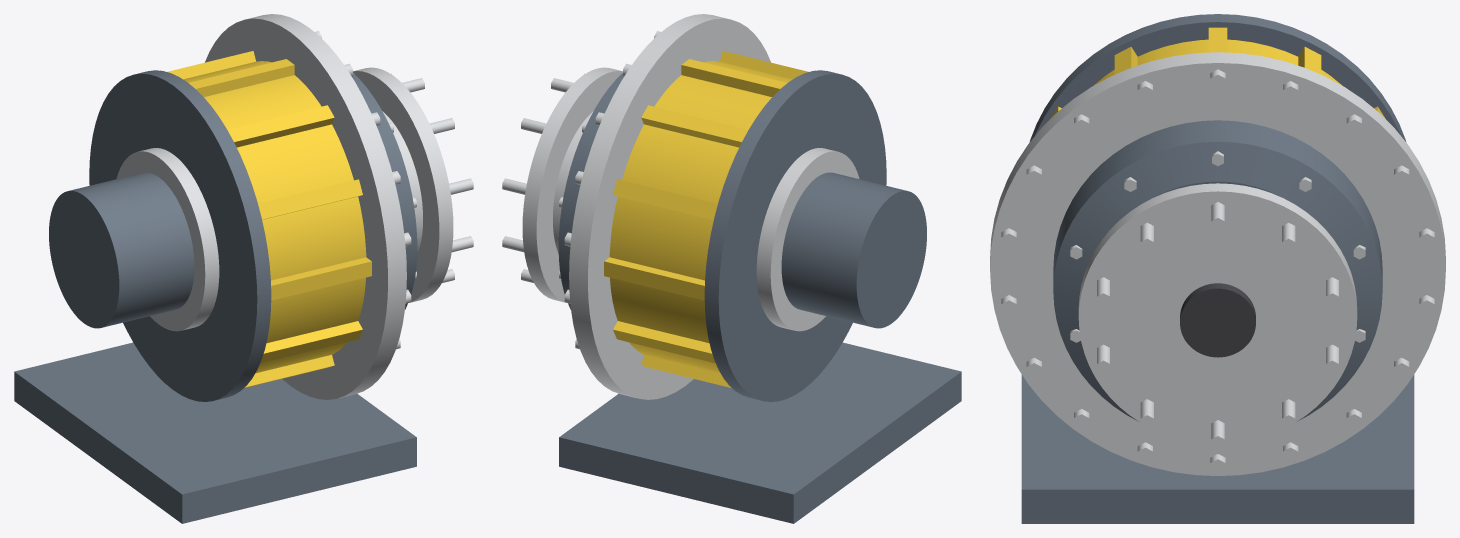
Rendered from planetary-gearbox.glb.
3 views of the same model, side by side, from view 1: azimuth 30°, elevation 25°; view 2: azimuth 150°, elevation 25°; view 3: azimuth 270°, elevation 25° (orthographic). The views are drawn at different scales.
Visible parts, largest first — view 1: planetary-gearbox; view 2: planetary-gearbox; view 3: planetary-gearbox.
Boxes of the visible parts, box(x1,y1,x2,y2) form: planetary-gearbox: box(14, 14, 473, 523); planetary-gearbox: box(502, 14, 961, 523); planetary-gearbox: box(990, 14, 1445, 523).
Size of the model in its own units: 0.72 by 0.78 by 0.72.
